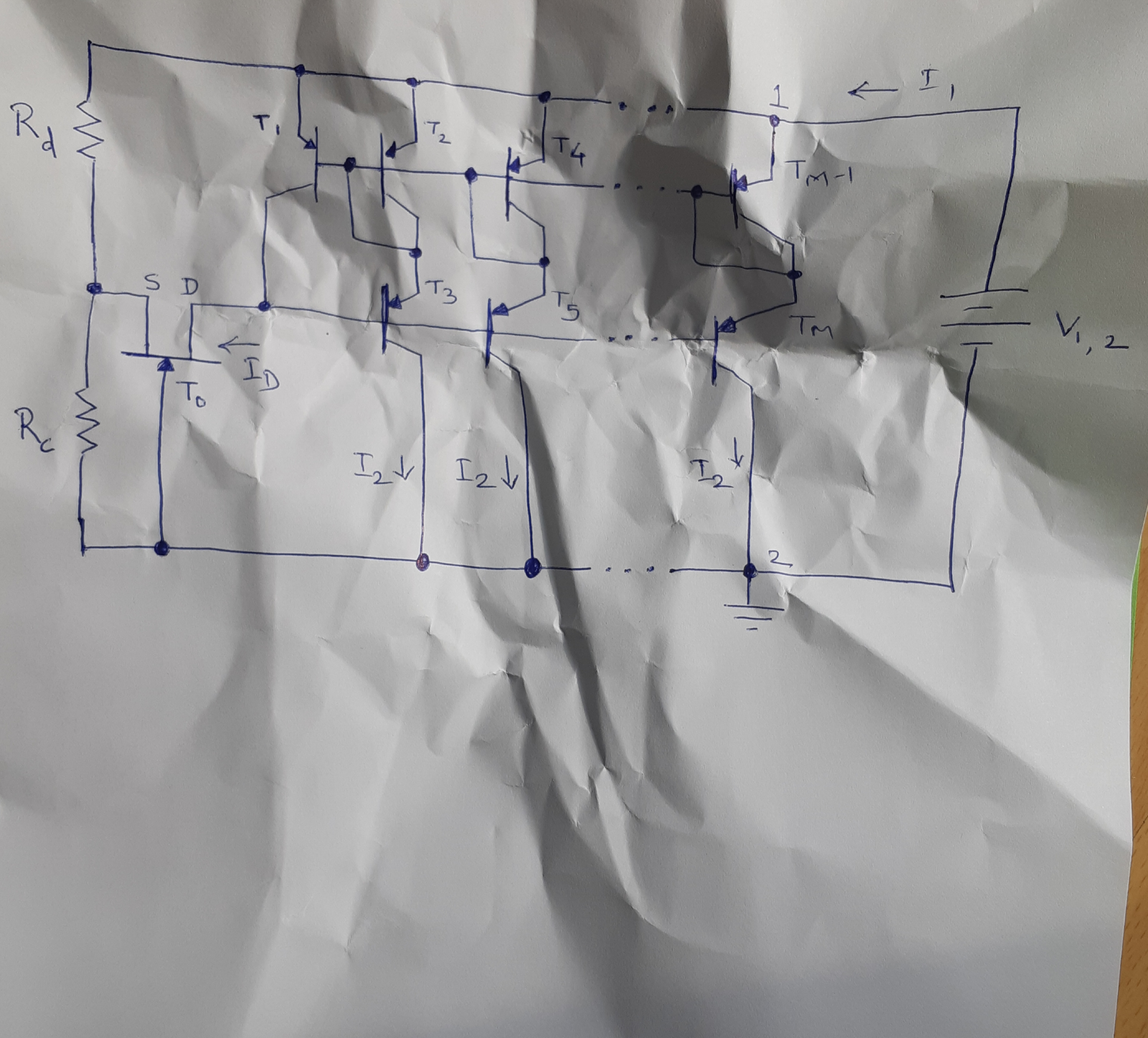explanatory: (846, 80, 900, 102), (216, 333, 262, 356), (498, 453, 520, 492), (392, 453, 415, 482), (726, 435, 744, 469)
gnd: (722, 599, 782, 632)
junction: (151, 536, 173, 558), (412, 550, 433, 573), (939, 576, 961, 597), (84, 278, 106, 298), (687, 182, 708, 201), (524, 557, 542, 579), (739, 561, 759, 579), (341, 154, 359, 174), (255, 296, 274, 314), (462, 165, 480, 184), (535, 88, 553, 106), (75, 540, 92, 557), (82, 35, 99, 52), (407, 244, 424, 260), (291, 61, 307, 78), (536, 255, 553, 271), (1009, 100, 1026, 116), (767, 112, 784, 128), (405, 74, 421, 90), (347, 231, 360, 245), (787, 268, 800, 281), (469, 251, 481, 263), (690, 256, 701, 268)
resistor: (71, 99, 107, 165), (72, 383, 102, 459)
text: (1057, 308, 1130, 354), (9, 99, 57, 160), (785, 155, 855, 191), (12, 406, 57, 456), (242, 354, 281, 390), (921, 67, 959, 100), (357, 451, 393, 485), (176, 379, 212, 413), (791, 313, 836, 340), (455, 458, 491, 491), (695, 457, 729, 491), (555, 134, 589, 166), (426, 275, 459, 306), (555, 289, 583, 325), (251, 112, 281, 140), (426, 116, 453, 147), (767, 82, 789, 109), (768, 547, 793, 568), (141, 272, 162, 293), (180, 276, 200, 296)
transistor.bjt: (705, 297, 807, 395), (729, 170, 798, 248), (483, 291, 545, 376), (261, 125, 324, 205), (374, 282, 424, 361), (380, 135, 420, 217), (507, 151, 547, 231)
transistor.fet: (122, 293, 222, 374)
voltage.battery: (937, 287, 1029, 349)
